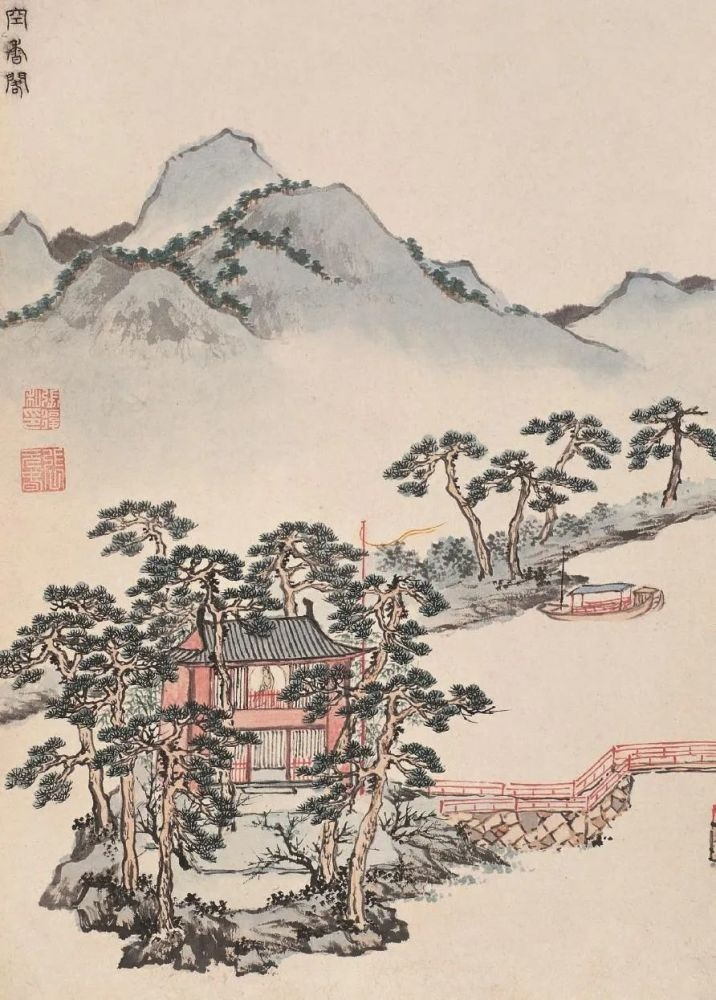boat: (548, 577, 665, 623)
house: (183, 629, 359, 717), (245, 727, 348, 784)
mountain: (1, 139, 712, 358)
tree: (160, 704, 237, 835), (53, 592, 157, 683), (299, 677, 479, 719), (258, 528, 346, 613), (310, 725, 394, 813), (73, 679, 138, 784), (349, 585, 431, 668), (340, 799, 386, 925), (140, 562, 225, 628), (213, 594, 258, 712), (93, 510, 210, 551), (17, 740, 64, 801), (1, 615, 51, 672), (517, 466, 590, 499), (154, 828, 177, 928), (120, 780, 141, 888), (577, 423, 620, 466), (392, 748, 439, 781), (631, 430, 676, 463), (84, 784, 112, 833), (319, 821, 343, 878), (505, 500, 519, 579), (530, 418, 575, 439), (482, 466, 519, 491), (672, 445, 687, 502), (442, 442, 489, 460), (640, 405, 694, 419), (439, 460, 459, 495), (408, 451, 425, 492), (476, 527, 490, 571), (459, 500, 480, 527), (682, 432, 711, 449), (495, 450, 523, 466), (544, 500, 556, 534)
wall: (445, 785, 608, 846), (588, 761, 640, 823), (612, 746, 716, 773)
